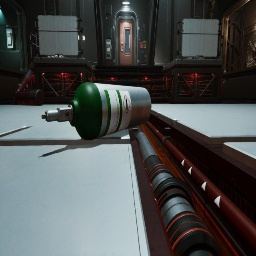0: (41, 82, 151, 140)
EmergencyPhone ,: (143, 38, 146, 48)
FireAlarm ,: (140, 42, 143, 48)
FirstAidBox ,: (42, 56, 48, 57)
NitrogenTank ,: (11, 69, 34, 104), (15, 89, 44, 106), (88, 61, 94, 65), (107, 62, 111, 65)
SafetySwitchPanel ,: (6, 28, 15, 49), (106, 39, 112, 60), (35, 56, 42, 57)
